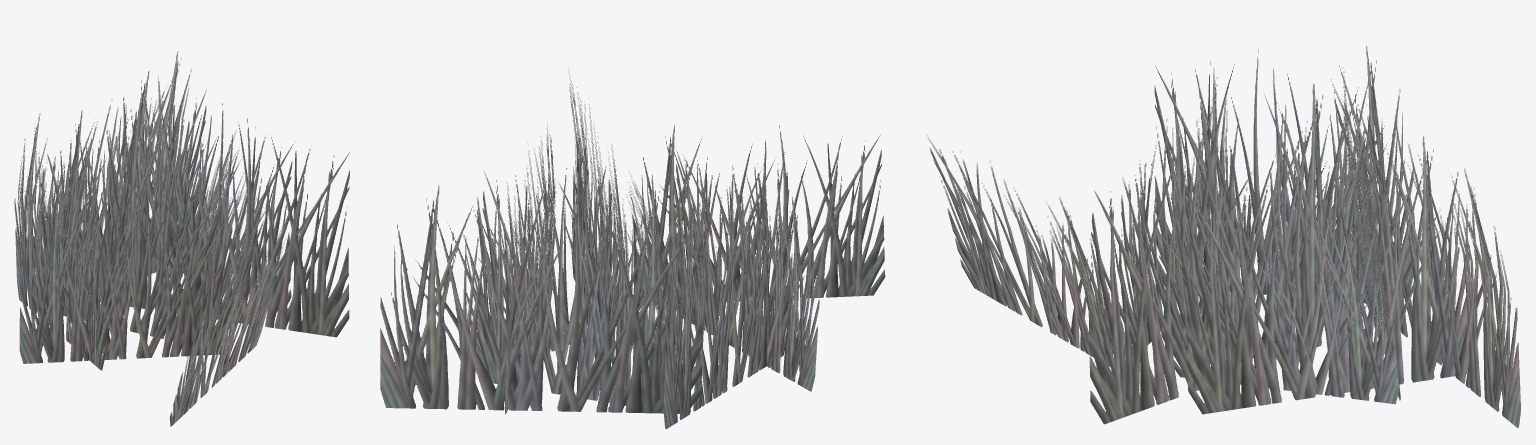
File: grass_tall_l0.gltf
The picture shows the model from 3 angles, left to right: view 1: azimuth 30°, elevation 25°; view 2: azimuth 150°, elevation 25°; view 3: azimuth 270°, elevation 25°; orthographic projection. The views are drawn at different scales.
Parts seen in each view (by area): view 1: grass_tall_l0; view 2: grass_tall_l0; view 3: grass_tall_l0.
Boxes of the visible parts, x1,y1,x2,y2 form: grass_tall_l0: (14, 51, 350, 426); grass_tall_l0: (380, 68, 885, 429); grass_tall_l0: (926, 45, 1520, 427).
Size of the model in its own units: 1.63 by 1.24 by 2.3.
Materials: 1 (1 with a texture image).
